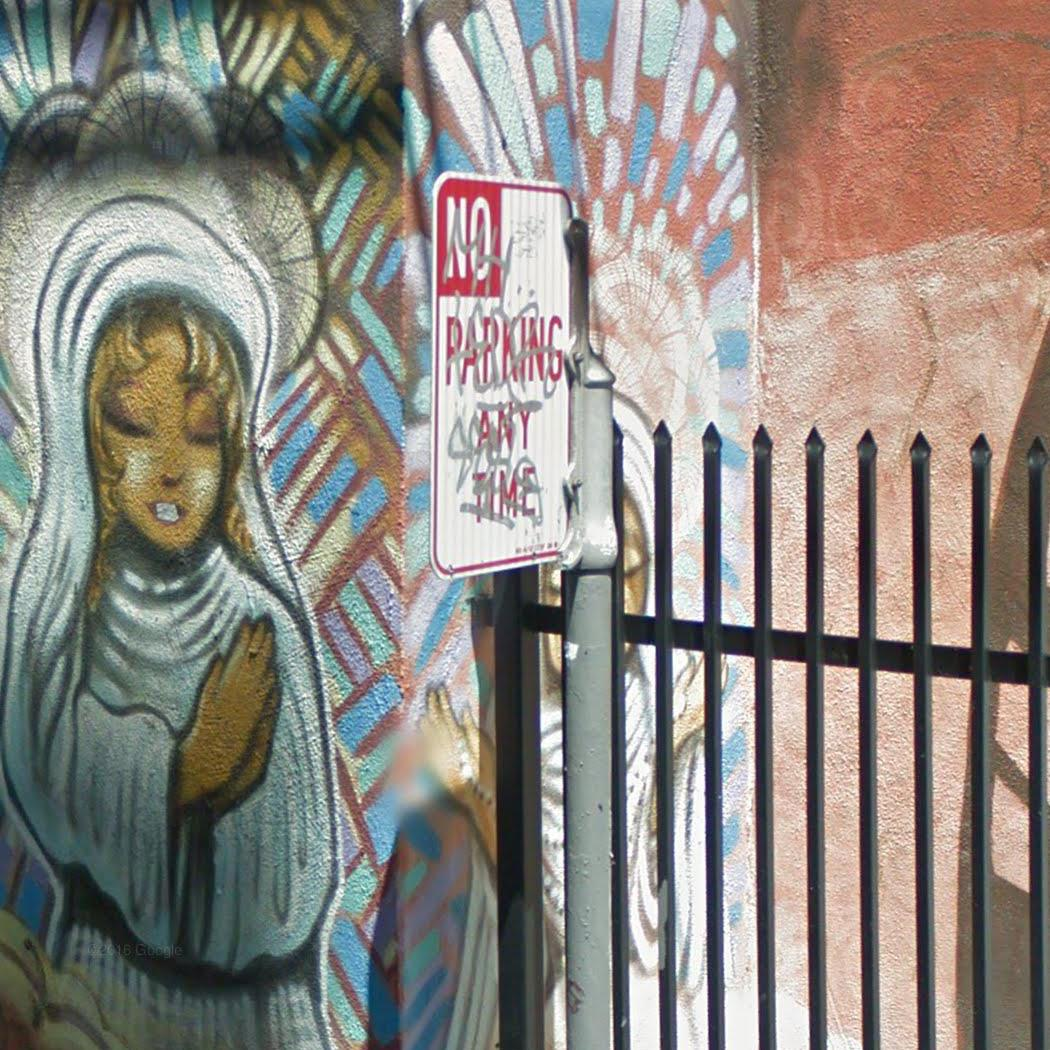No Parking: (427, 169, 575, 582)
